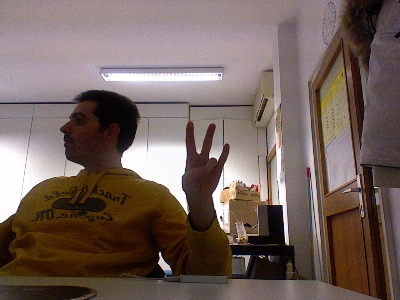观音: (180, 119, 230, 196)
